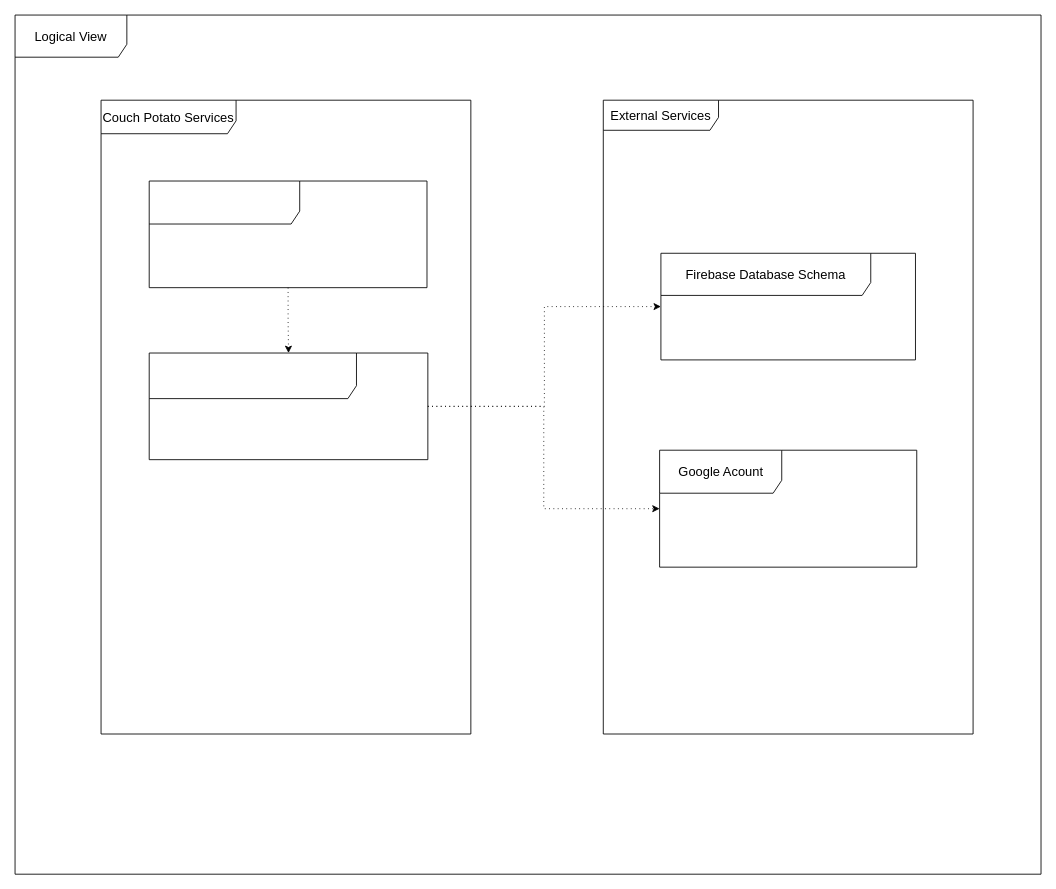
The diagram is 1056 pixels wide and 889 high, and some of its shapes have lost their labels. Here are the shapes that lost their labels. From the top down, the centre of each, then its label:
point 287,234: Couch Potato UI
point 288,406: Couch Potato Business Logic
